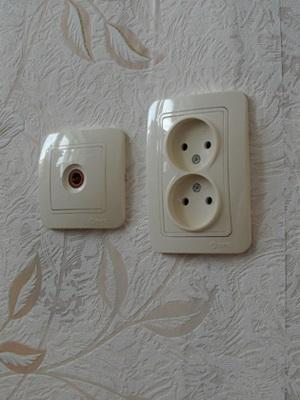raccoon: (165, 171, 218, 231), (163, 112, 217, 168)
